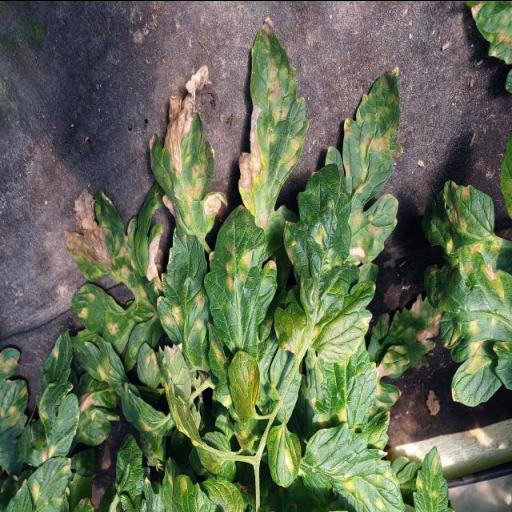disease_tomato: (420, 178, 512, 408), (274, 161, 376, 363), (62, 186, 162, 372), (238, 16, 310, 258), (325, 66, 402, 265), (149, 65, 229, 244), (204, 204, 277, 356), (299, 421, 405, 512), (156, 223, 212, 373), (416, 438, 454, 512), (264, 421, 302, 488)
